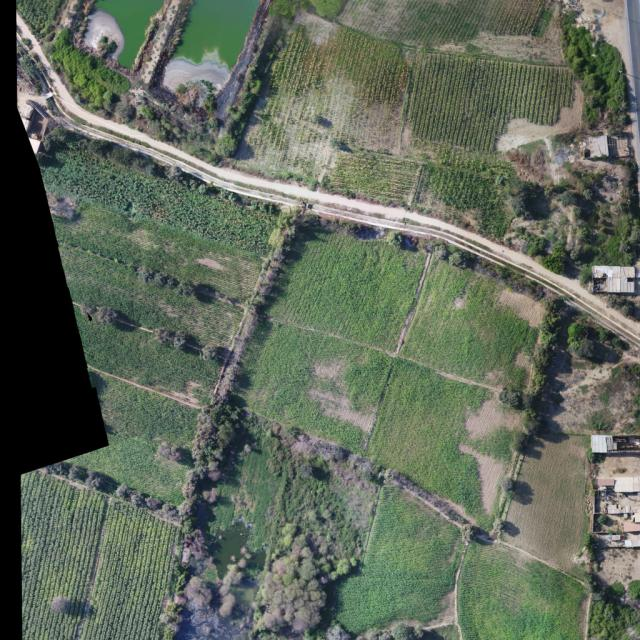agricultural_land: (22, 471, 179, 639)
building: (592, 472, 640, 549), (592, 265, 640, 293), (589, 135, 609, 158), (591, 436, 616, 452), (591, 435, 608, 452)
dryland: (493, 112, 586, 199), (577, 0, 630, 64)
greenland: (24, 245, 247, 417), (29, 122, 282, 258), (358, 357, 519, 518), (47, 190, 264, 306), (324, 482, 482, 640), (228, 315, 395, 456), (399, 257, 555, 399), (267, 216, 427, 353), (58, 369, 213, 506), (497, 422, 611, 573), (456, 542, 589, 640), (210, 14, 288, 162), (69, 420, 196, 505), (34, 27, 134, 121), (180, 520, 262, 625), (180, 398, 247, 509), (515, 295, 567, 438), (554, 168, 605, 235), (16, 0, 65, 38), (269, 0, 345, 22), (503, 175, 539, 218), (540, 242, 577, 279), (567, 321, 598, 360), (211, 130, 243, 162), (524, 233, 549, 259)
wetland: (77, 0, 165, 69), (77, 5, 135, 61), (164, 51, 230, 90)
